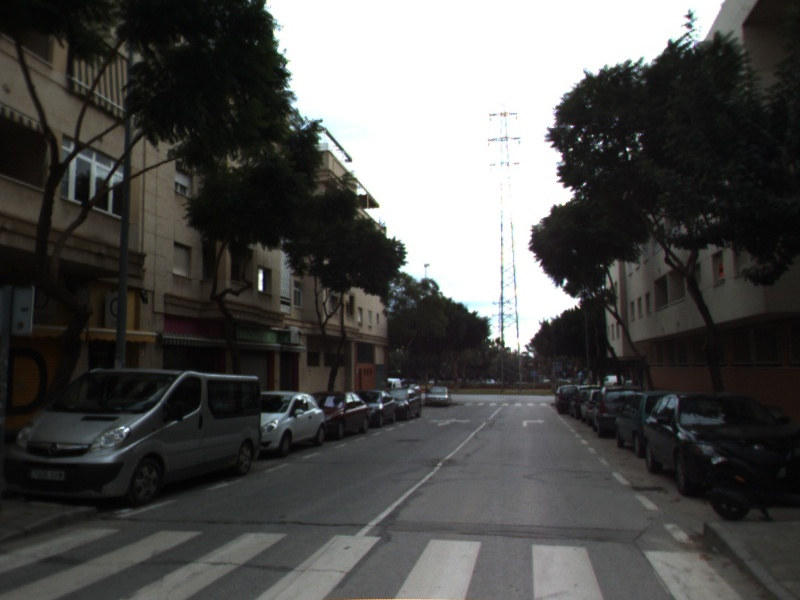RIGHT: (520, 416, 547, 429)
